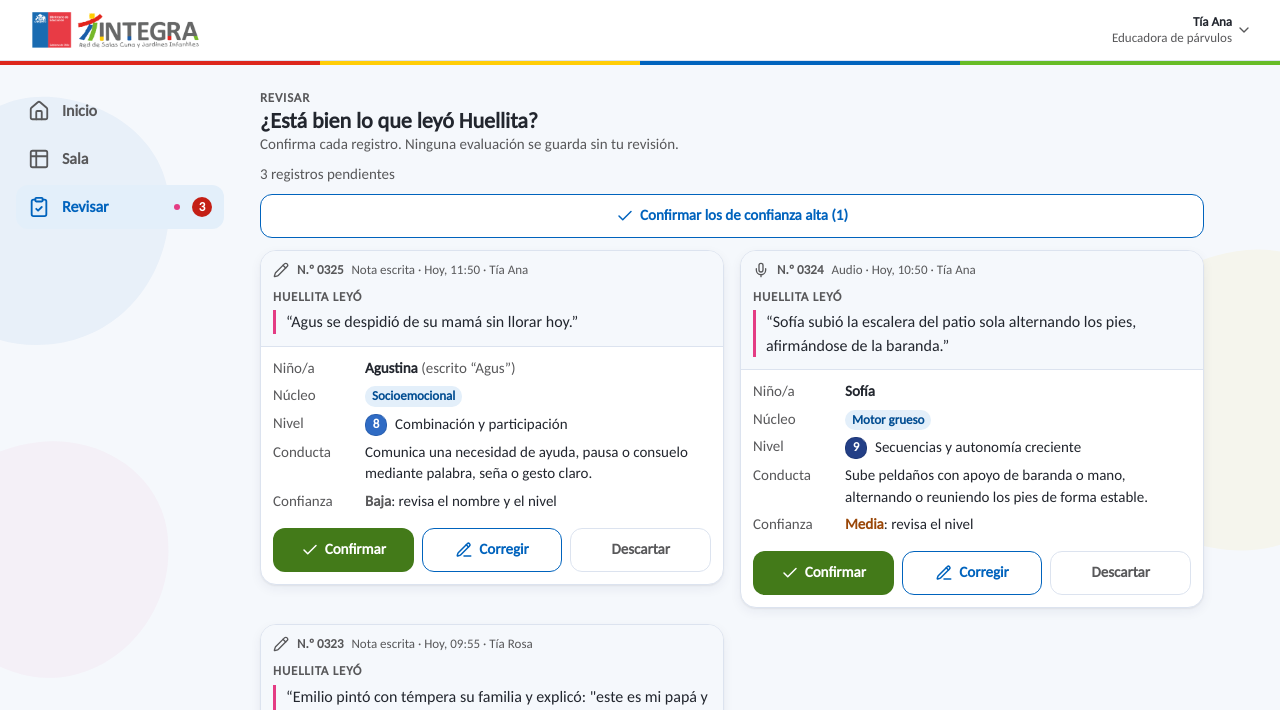
Test case: Revisar › al guardar una nota, sale de la lista y avisa
The width and height of the screenshot is (1280, 710).
Click the button "Confirmar" below "Baja".
click(343, 550)  # box [273,528,414,572]
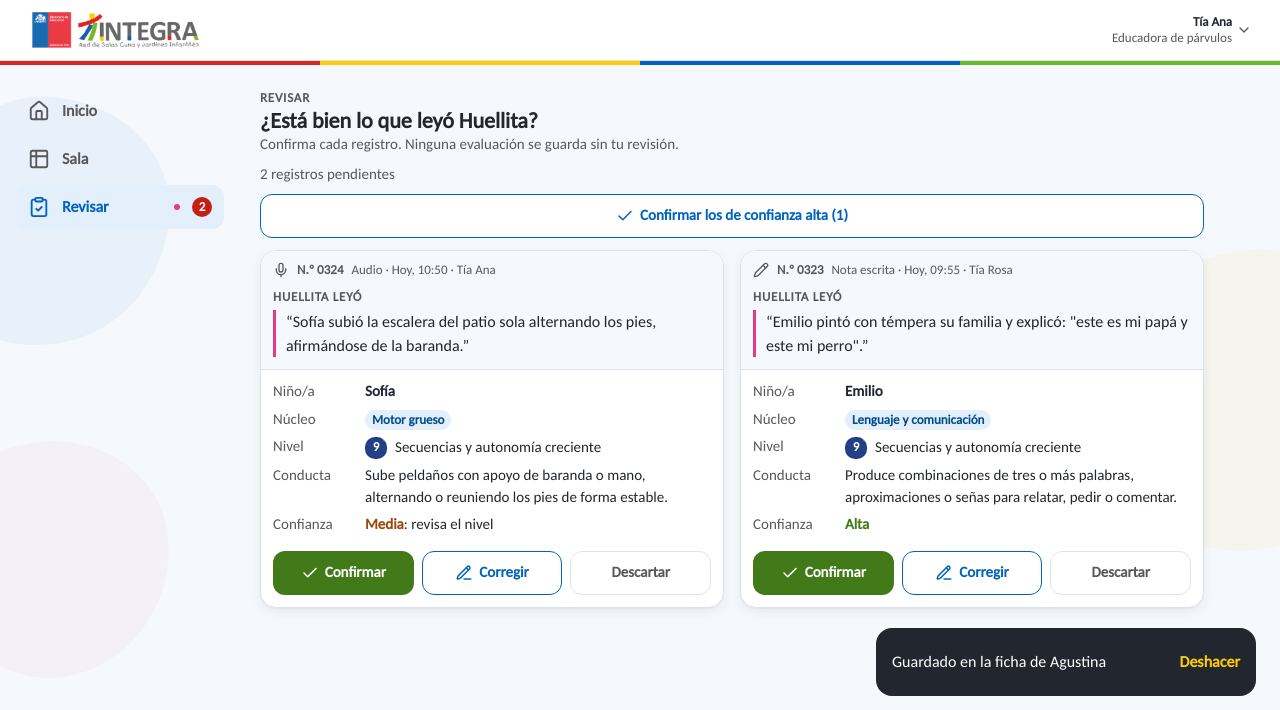
Check: the text "Guardado en la ficha de" is shown, box [892,652,1106,671]
Check: the text "Deshacer" is shown, box [1180,640,1240,684]
